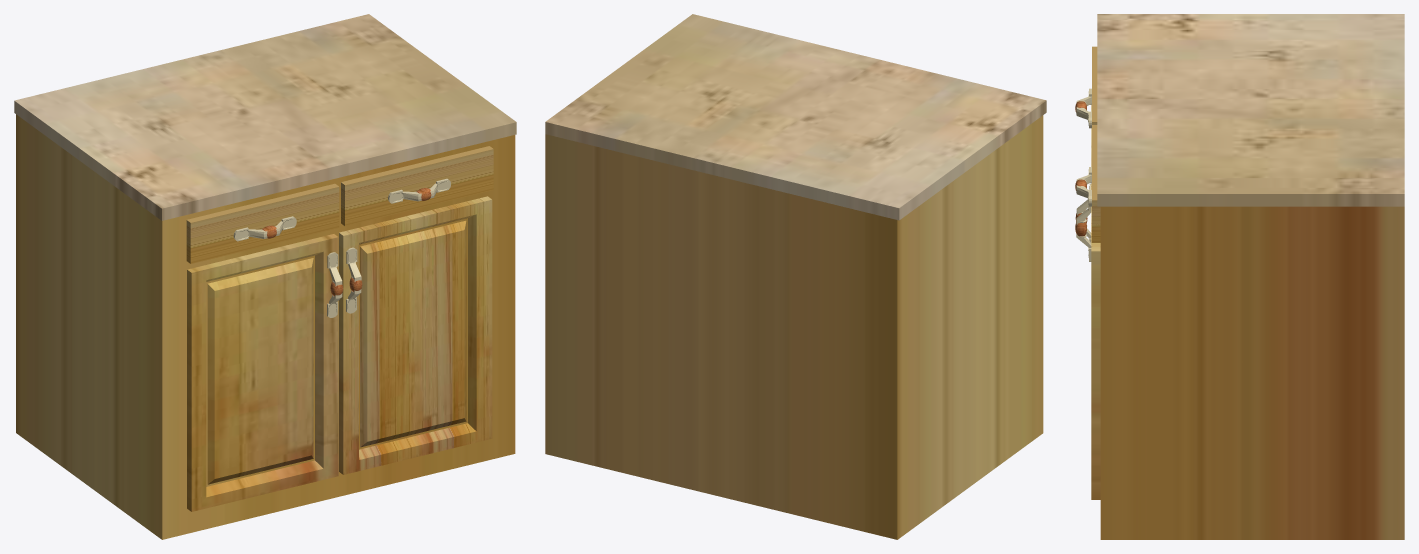
The model's file is 2DoorLowerCabinet.glb.
3 renders of one model, left to right at view 1: azimuth 30°, elevation 25°; view 2: azimuth 150°, elevation 25°; view 3: azimuth 270°, elevation 25°, orthographic. The views are drawn at different scales.
Parts seen in each view (by area): view 1: Node14, Node13, Node24, Node15, Node26, Node25; view 2: Node14, Node13; view 3: Node14, Node13, Node24, Node25, Node26.
Boxes of the visible parts, left/top/right/bottom form: Node14: left=16, top=114, right=515, bottom=539; Node13: left=14, top=14, right=516, bottom=220; Node24: left=339, top=196, right=492, bottom=474; Node15: left=187, top=234, right=338, bottom=511; Node26: left=186, top=183, right=339, bottom=263; Node25: left=341, top=146, right=493, bottom=226; Node14: left=545, top=115, right=1043, bottom=539; Node13: left=545, top=14, right=1046, bottom=220; Node14: left=1100, top=206, right=1404, bottom=539; Node13: left=1097, top=14, right=1404, bottom=206; Node24: left=1091, top=183, right=1100, bottom=499; Node25: left=1092, top=125, right=1100, bottom=242; Node26: left=1092, top=46, right=1097, bottom=124.
Bounding box in the file's own units: 7.29 × 6.54 × 5.64.
Materials: 4 (3 with a texture image).
